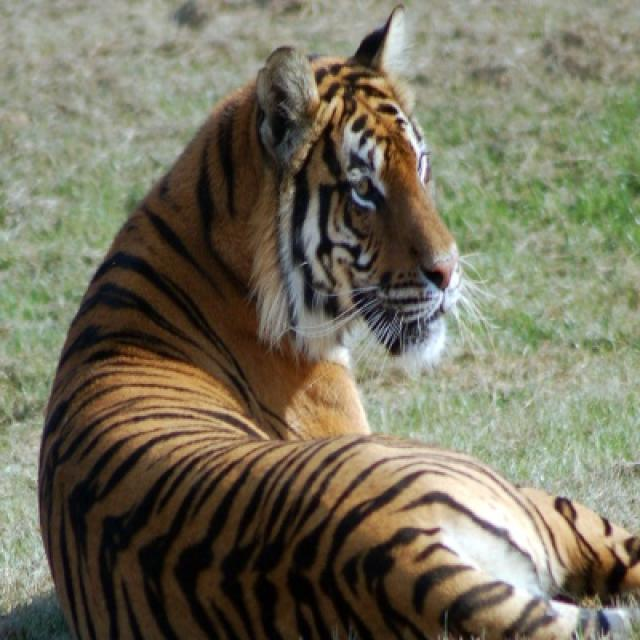Tiger: (37, 6, 638, 638)
